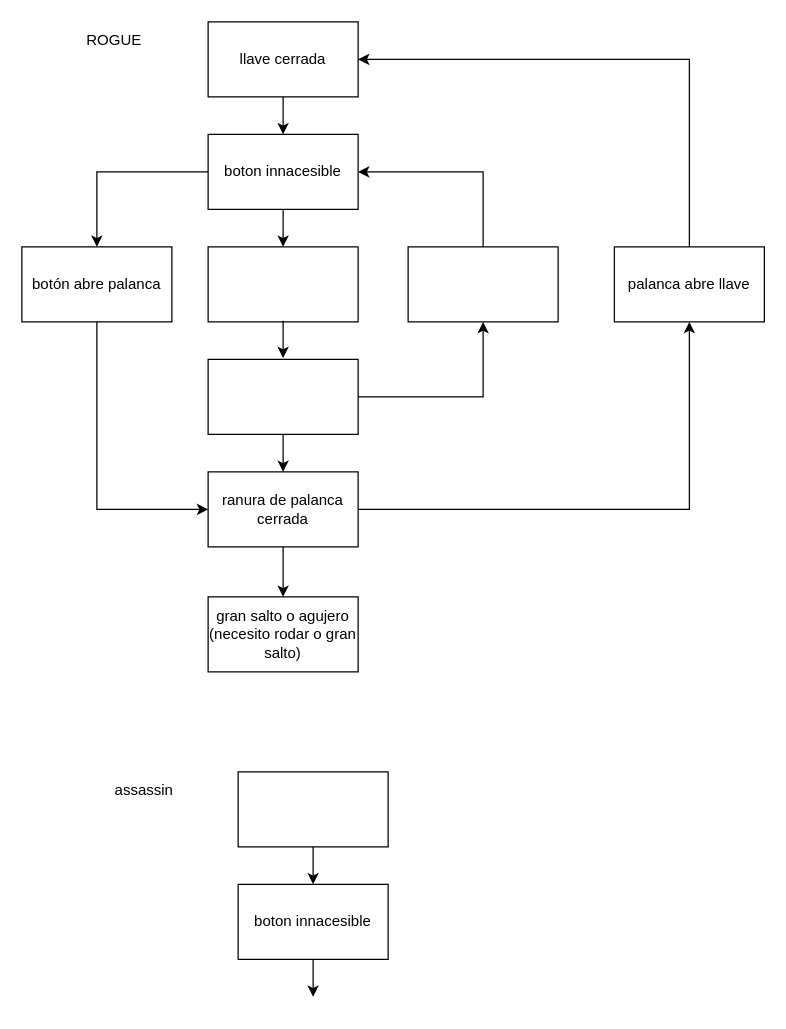
This 786x1029 diagram has some shape labels left out. The centre of each missing label's shape, as x and y in pixels:
derroto enemigo y obtengo ataque a distancia: the point at 282,396
disparo al boton: the point at 482,284
palanca: the point at 282,284
te persigue enemigo: the point at 312,809
